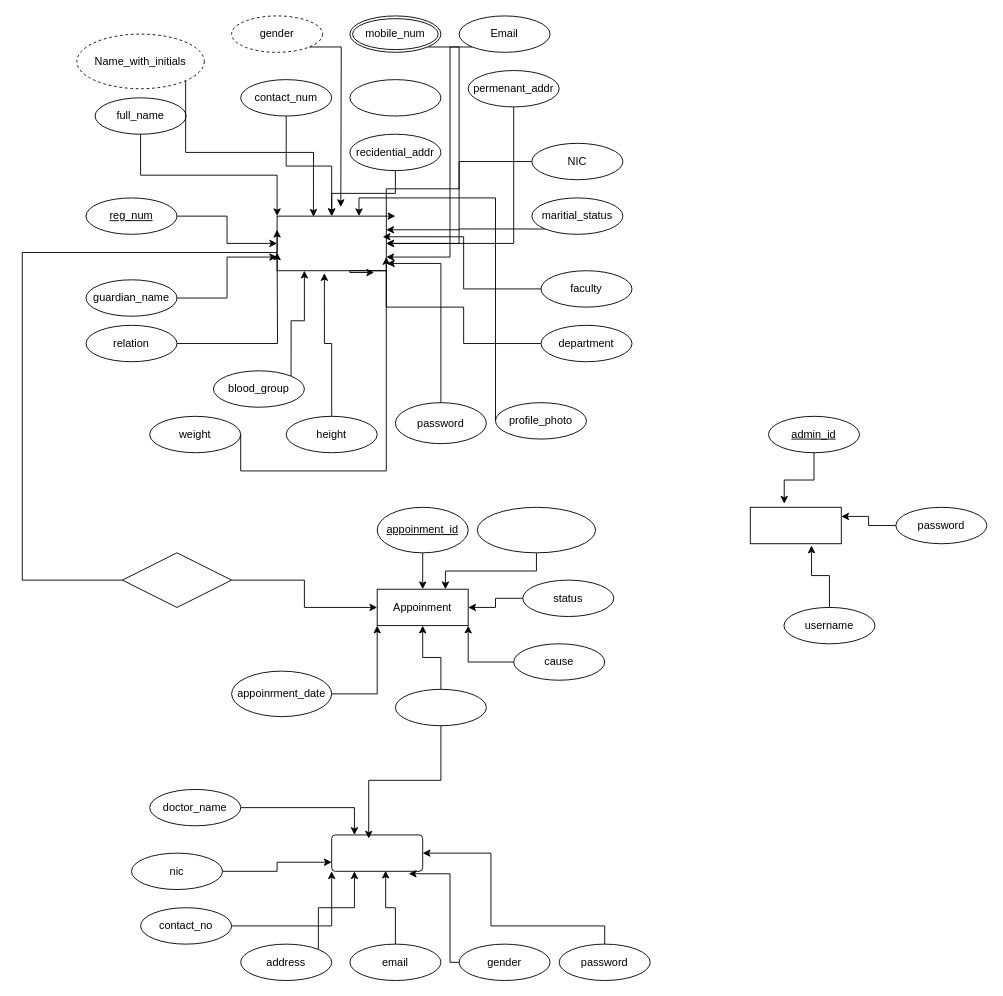
Some shapes in this 1003 by 996 pixel diagram are drawn without their labels. Each missing label, with the centre of its shape:
admin: the point at 795,525
appointment_num: the point at 536,529
dob: the point at 395,97
doctor: the point at 377,852
doctor_id: the point at 440,707
make: the point at 176,579
Users: the point at 331,243
